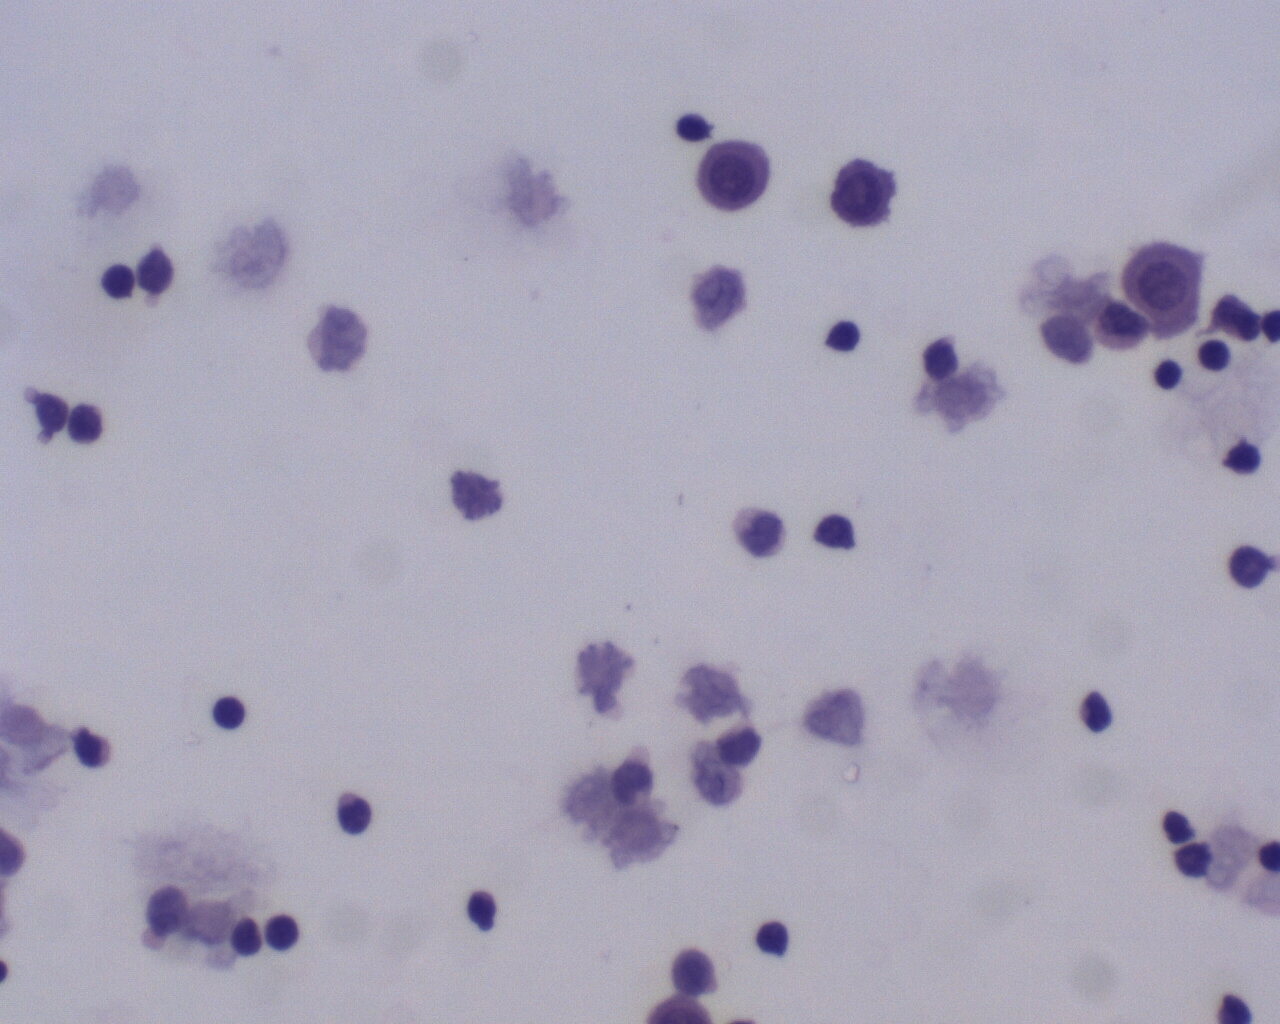ab: (831, 154, 899, 229)
lymph: (259, 905, 304, 958), (749, 914, 793, 961), (97, 258, 135, 306), (208, 692, 252, 732), (824, 315, 864, 358), (1149, 357, 1188, 392)
meso: (1121, 243, 1208, 344), (686, 139, 776, 214)
